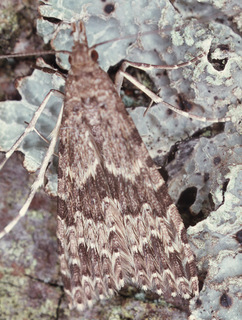Alucitidae: (1, 11, 234, 311)
moth: (2, 13, 236, 313)
